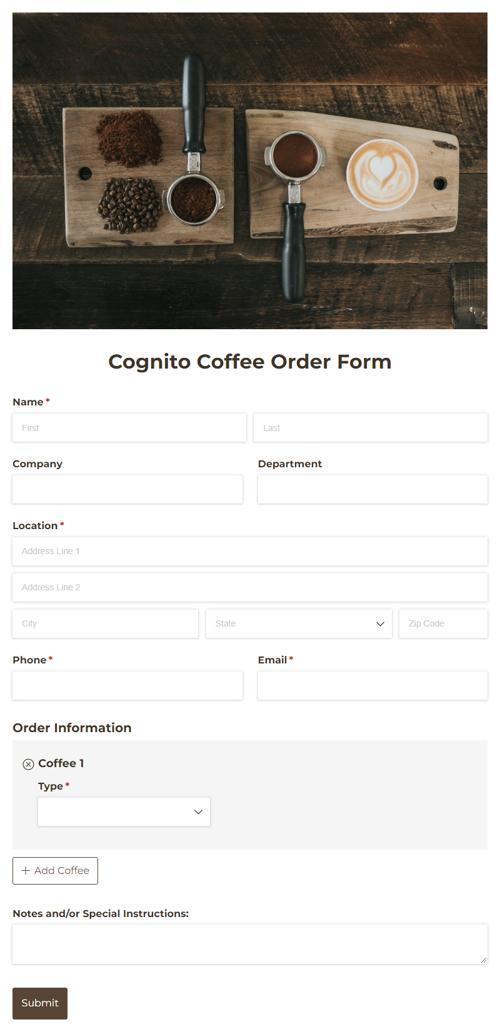button: (11, 858, 101, 887), (14, 988, 69, 1020)
dropdown: (37, 797, 212, 828), (209, 609, 391, 638)
icon: (20, 757, 36, 773)
input: (12, 535, 490, 569), (11, 573, 492, 600), (258, 473, 490, 507), (258, 669, 490, 702), (13, 413, 247, 445), (252, 413, 489, 444), (13, 476, 246, 506), (12, 671, 244, 701), (13, 613, 198, 639), (400, 610, 489, 640)
label: (105, 349, 399, 379), (10, 907, 197, 924), (14, 722, 143, 743), (257, 456, 327, 472), (11, 456, 70, 473), (8, 652, 57, 670), (10, 520, 69, 534), (36, 758, 90, 773), (257, 654, 299, 670), (13, 395, 57, 409), (40, 779, 73, 796)
